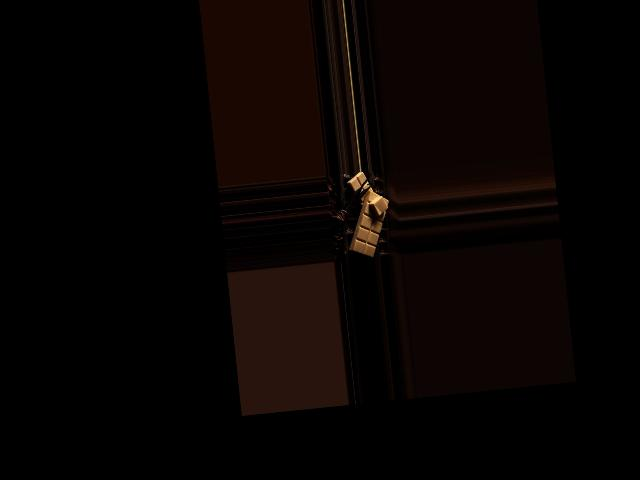chocolate: (344, 187, 393, 258)
